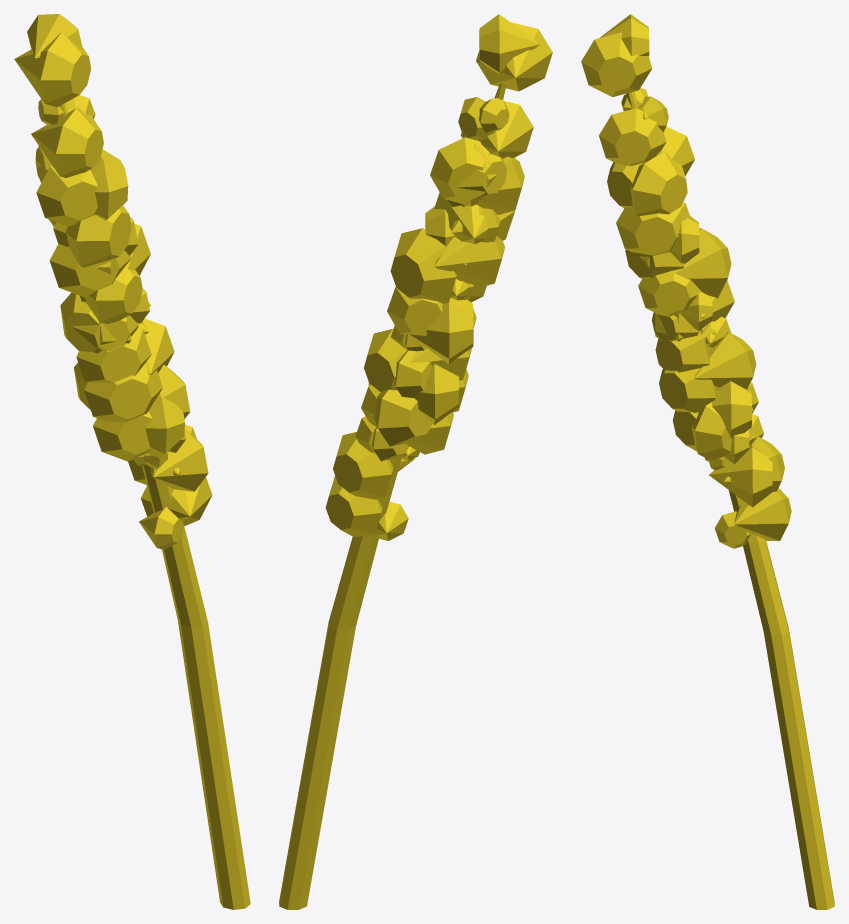
The model's file is Natures2g9-yellow.fbx.
3 views of the same model, side by side, from view 1: azimuth 30°, elevation 25°; view 2: azimuth 150°, elevation 25°; view 3: azimuth 330°, elevation 25° (orthographic). The views are drawn at different scales.
Visible parts, largest first — view 1: g9-yellow; view 2: g9-yellow; view 3: g9-yellow.
Boxes of the visible parts, x1,y1,x2,y2 form: g9-yellow: (14,14,250,909); g9-yellow: (279,14,552,909); g9-yellow: (581,14,834,909).
Bounding box in the file's own units: 114 × 422 × 49.
